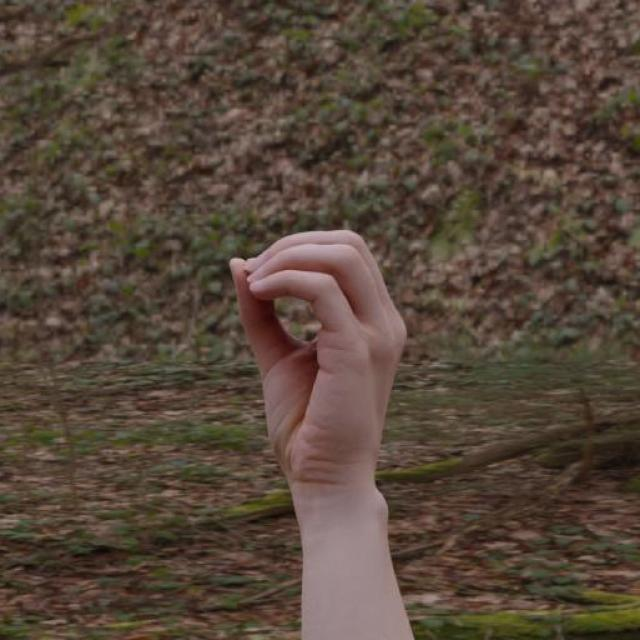O: (225, 220, 412, 529)
